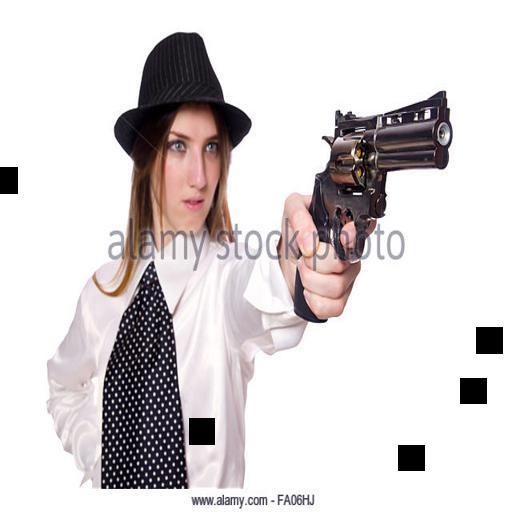Handgun: (291, 87, 451, 321)
